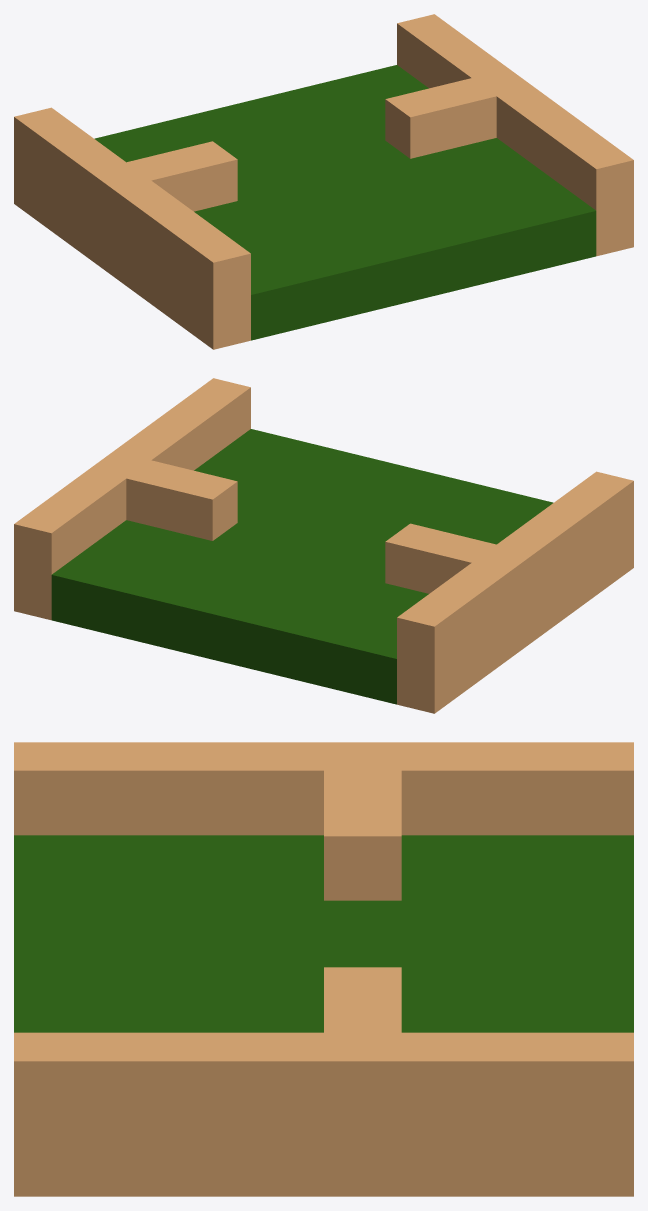
The model's file is NewLego2.fbx.
The picture shows the model from 3 angles, top to bottom: view 1: azimuth 30°, elevation 25°; view 2: azimuth 150°, elevation 25°; view 3: azimuth 270°, elevation 25°; orthographic projection. The views are drawn at different scales.
Parts seen in each view (by area): view 1: Cube.061, Cube.068; view 2: Cube.061, Cube.068; view 3: Cube.068, Cube.061.
Boxes of the visible parts, x1,y1,x2,y2 form: Cube.061: (94,65,596,340); Cube.068: (14,14,633,349); Cube.061: (51,429,553,704); Cube.068: (14,378,633,713); Cube.068: (14,742,633,1196); Cube.061: (14,835,633,1032).
Size of the model in its own units: 220 by 43.6 by 181.
